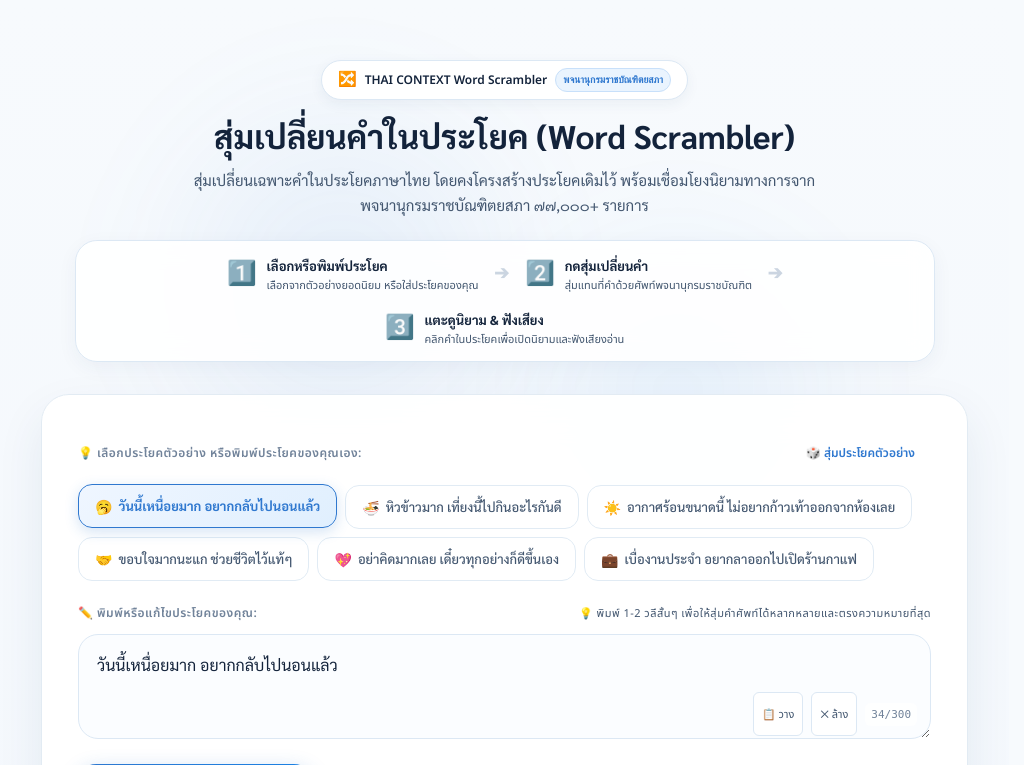
Word Scrambler (สุ่มเปลี่ยนคำในประโยค) UI Component › changes input sentence when clicking preset chip
Check: the text box named "ประโยคภาษาไทยที่ต้องการสุ่มเปลี่ยนคำ" holds "วันนี้เหนื่อยมาก อยากกลับไปนอนแล้ว", box left=78, top=634, right=931, bottom=739
Click the text "หิวข้าวมาก เที่ยงนี้ไปกินอะไรกันดี".
click(474, 507)  # box left=386, top=496, right=562, bottom=519
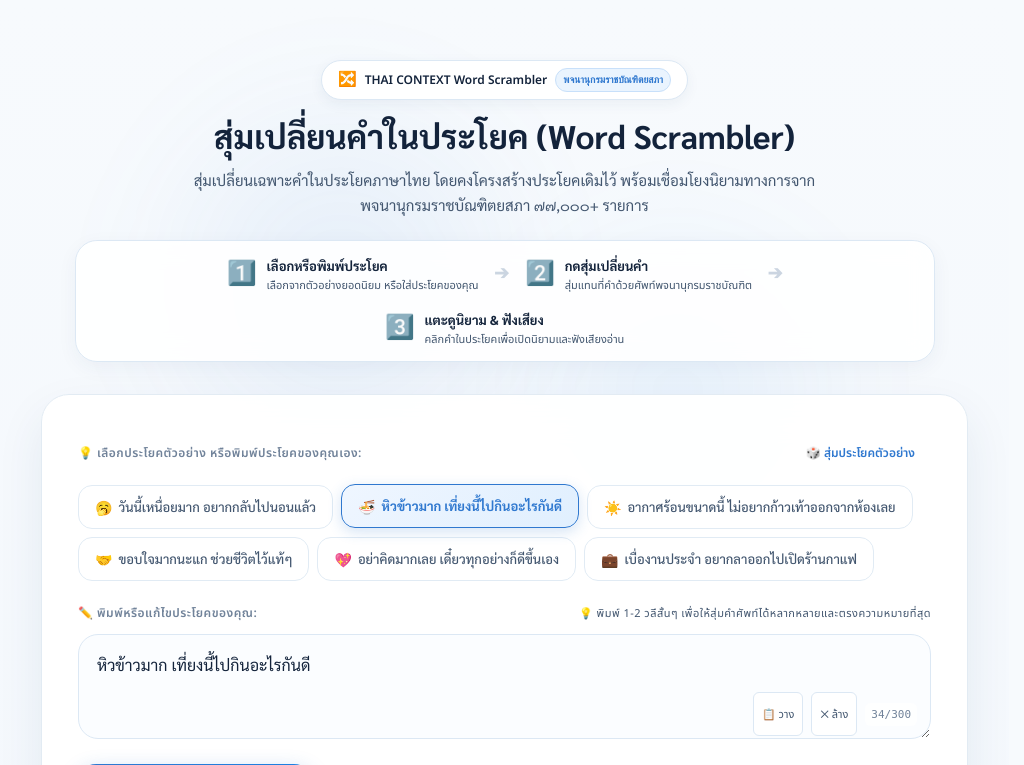
Check: the text box named "ประโยคภาษาไทยที่ต้องการสุ่มเปลี่ยนคำ" holds "หิวข้าวมาก เที่ยงนี้ไปกินอะไรกันดี", box left=78, top=634, right=931, bottom=739
